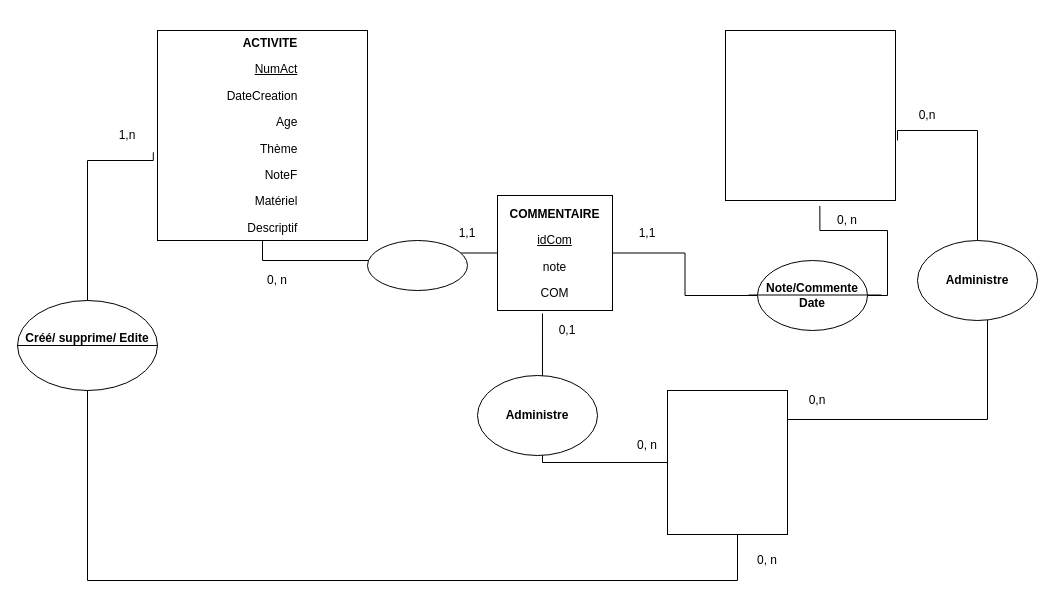
Image size: 1055x599. Some labels were removed from this diagram. Here are the shapes that lost their labels. From the top down, the box of each, then its label:
(724, 30, 896, 200): MEMBRE IdMembre Nom Prénom DateNaissance Mail Adresse
(366, 240, 468, 290): Appartient
(666, 390, 788, 534): ADMINISTRATEUR IdAmin Nom Prénom DateEmbauche
